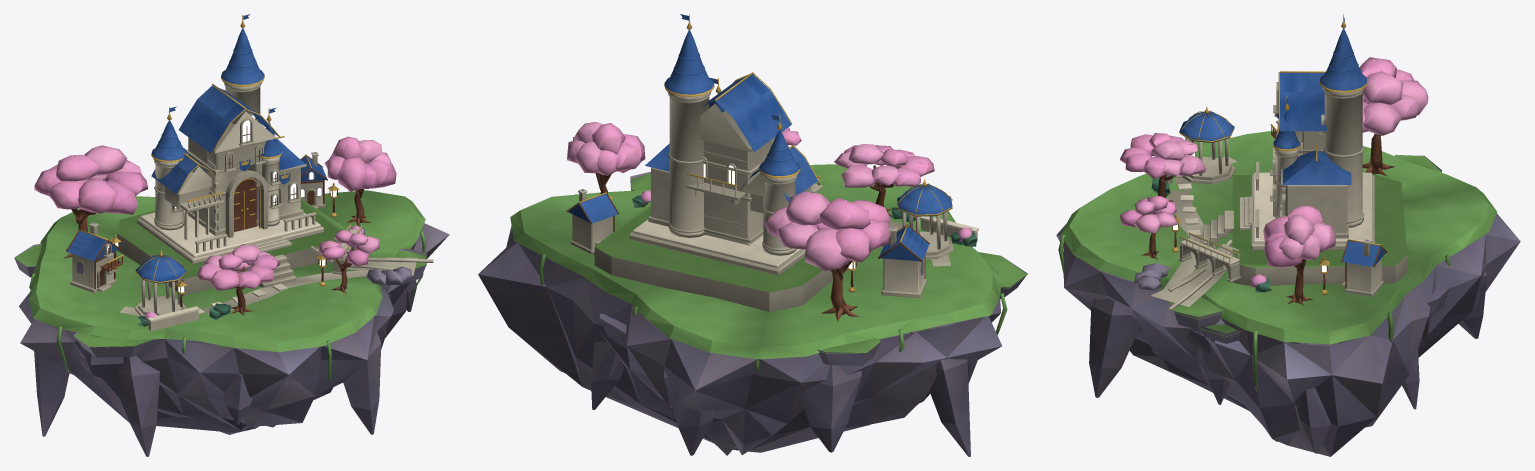
File: royal-island-right-v4-balanced.glb
3 views of the same model, side by side, from view 1: azimuth 30°, elevation 25°; view 2: azimuth 150°, elevation 25°; view 3: azimuth 270°, elevation 25° (orthographic). The views are drawn at different scales.
Visible parts, largest first — view 1: royal-island-right-v4; view 2: royal-island-right-v4; view 3: royal-island-right-v4.
Part boxes in pixels (x1,y1,x2,y2): royal-island-right-v4: (14, 14, 449, 456); royal-island-right-v4: (478, 14, 1027, 456); royal-island-right-v4: (1056, 14, 1520, 456).
Size of the model in its own units: 19.02 by 16.74 by 16.24.
Materials: 10 (10 with a texture image).
